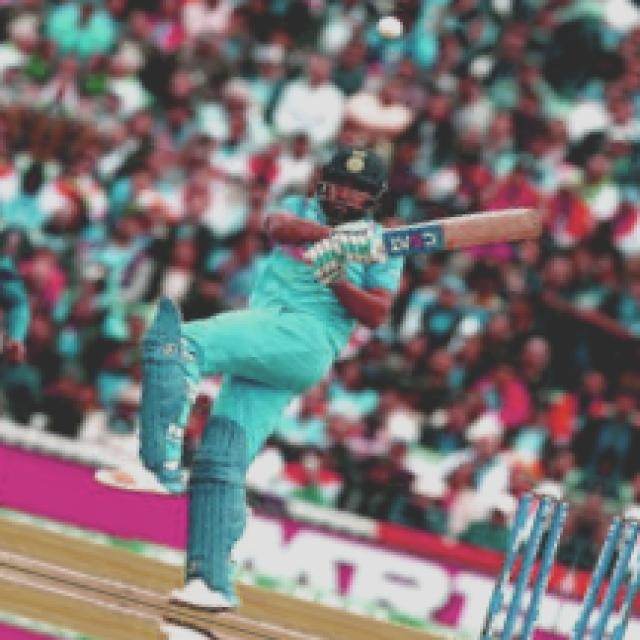toe: (509, 198, 552, 248)
